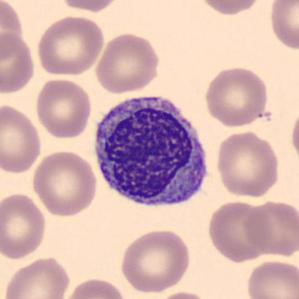Monocyte: (88, 87, 214, 214)
RBC: (118, 227, 193, 294), (29, 148, 99, 218), (214, 128, 282, 200), (93, 30, 162, 96), (202, 63, 271, 129), (35, 13, 105, 78), (205, 198, 272, 264), (33, 77, 94, 139), (242, 198, 298, 258), (0, 191, 48, 261), (1, 254, 72, 299), (0, 102, 43, 175), (0, 29, 37, 94), (244, 258, 298, 299), (266, 0, 298, 52), (61, 275, 129, 299), (0, 0, 25, 64), (195, 0, 265, 16), (56, 0, 124, 13), (288, 103, 299, 166), (150, 289, 213, 299)
